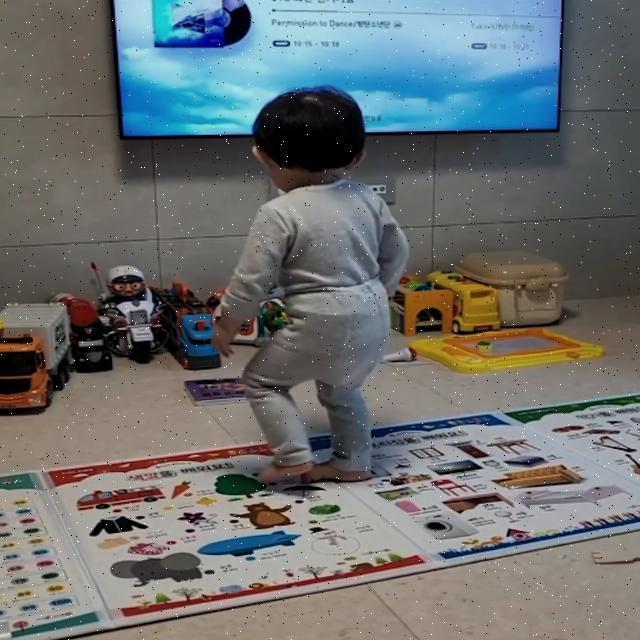child: (209, 88, 410, 485)
